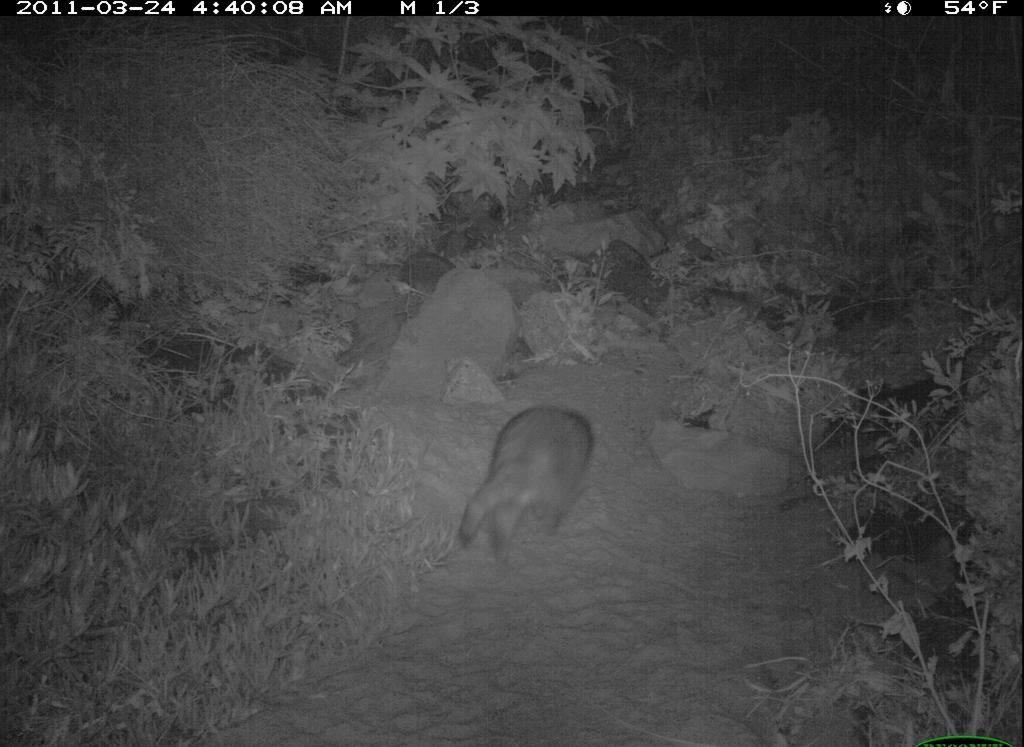raccoon: (454, 399, 603, 570)
